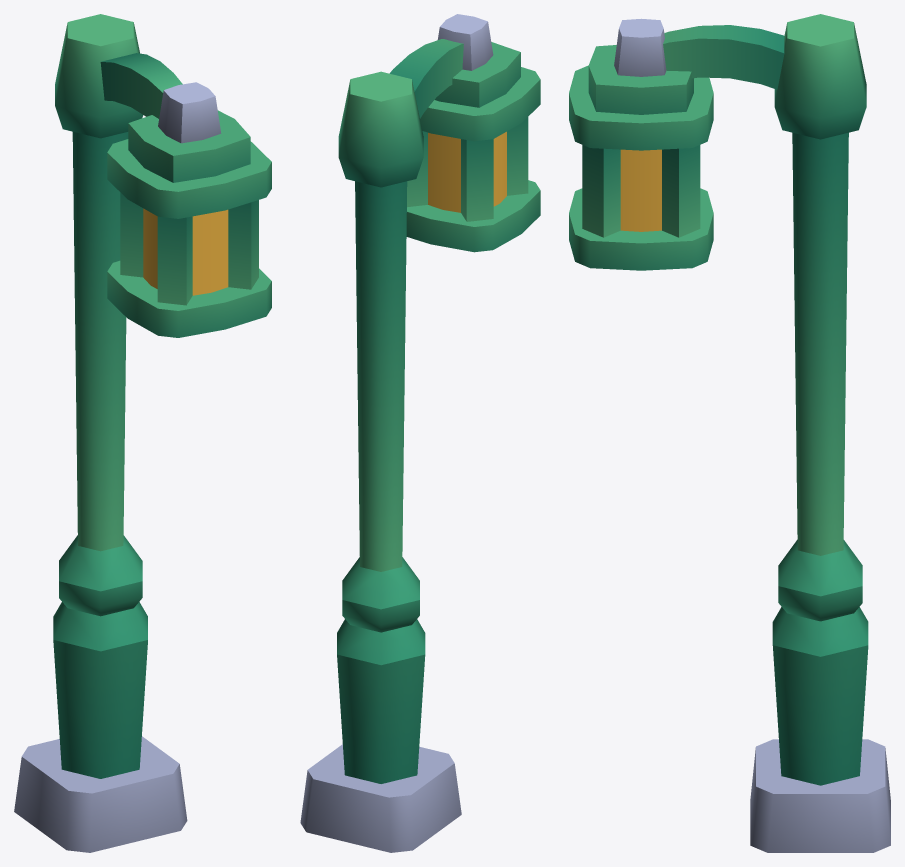
Rendered from lightpost-single.001_lev1.glb.
The picture shows the model from 3 angles, left to right: view 1: azimuth 30°, elevation 25°; view 2: azimuth 150°, elevation 25°; view 3: azimuth 270°, elevation 25°; orthographic projection. The views are drawn at different scales.
Parts seen in each view (by area): view 1: lightpost-single.001_lev1; view 2: lightpost-single.001_lev1; view 3: lightpost-single.001_lev1.
Boxes of the visible parts, left/top/right/bottom form: lightpost-single.001_lev1: left=14, top=14, right=271, bottom=852; lightpost-single.001_lev1: left=300, top=14, right=540, bottom=852; lightpost-single.001_lev1: left=569, top=14, right=890, bottom=852.
Bounding box in the file's own units: 1.04 × 6.33 × 2.32.
1 material, 1 textured.
